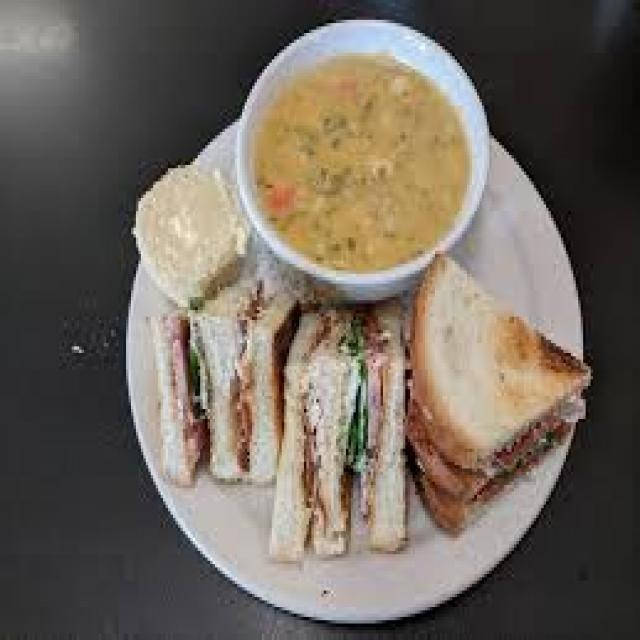Sandwich: (124, 268, 606, 568)
